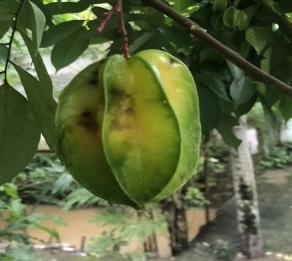Khe: (53, 49, 206, 213)
